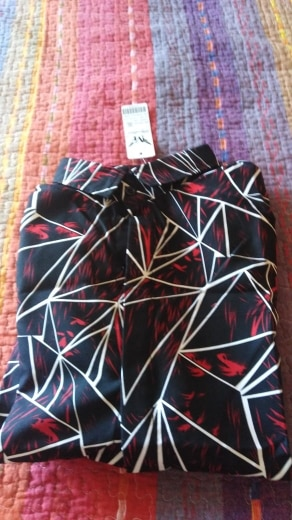shirts: (4, 150, 292, 479)
